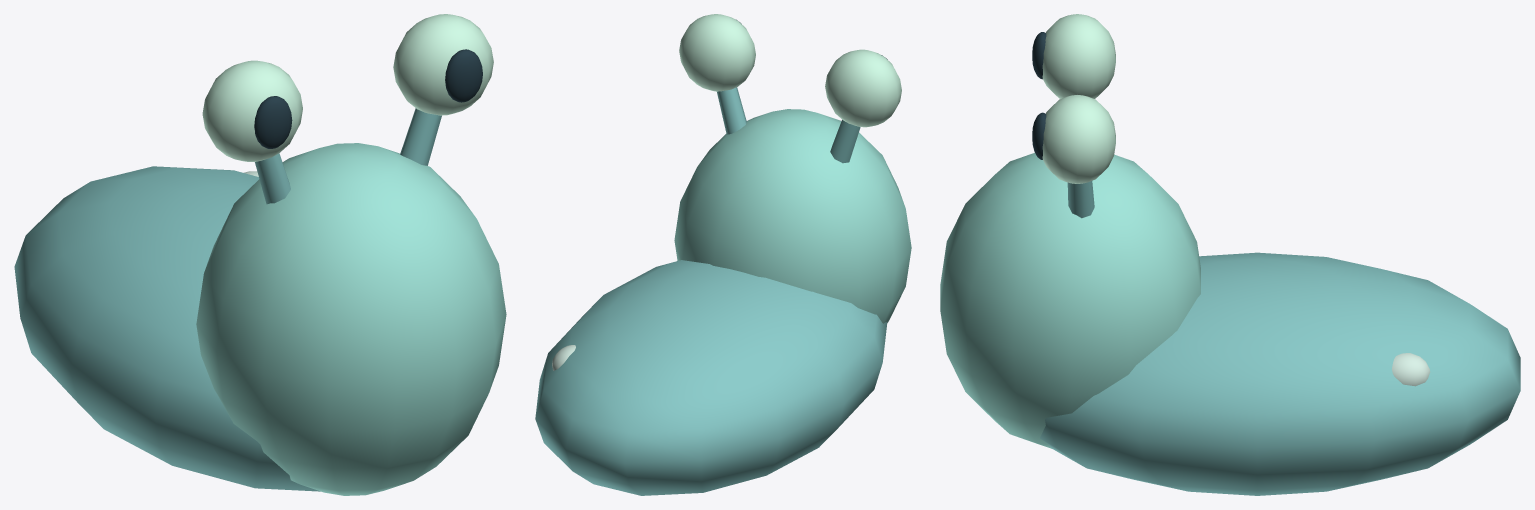
3 renders of one model, left to right at view 1: azimuth 30°, elevation 25°; view 2: azimuth 150°, elevation 25°; view 3: azimuth 270°, elevation 25°, orthographic. The views are drawn at different scales.
Visible parts, largest first — view 1: creature_21; view 2: creature_21; view 3: creature_21.
Part boxes in pixels (x1,y1,x2,y2): creature_21: (14,14,506,495); creature_21: (535,14,911,495); creature_21: (940,14,1520,495).
Size of the model in its own units: 0.62 by 0.81 by 1.03.
